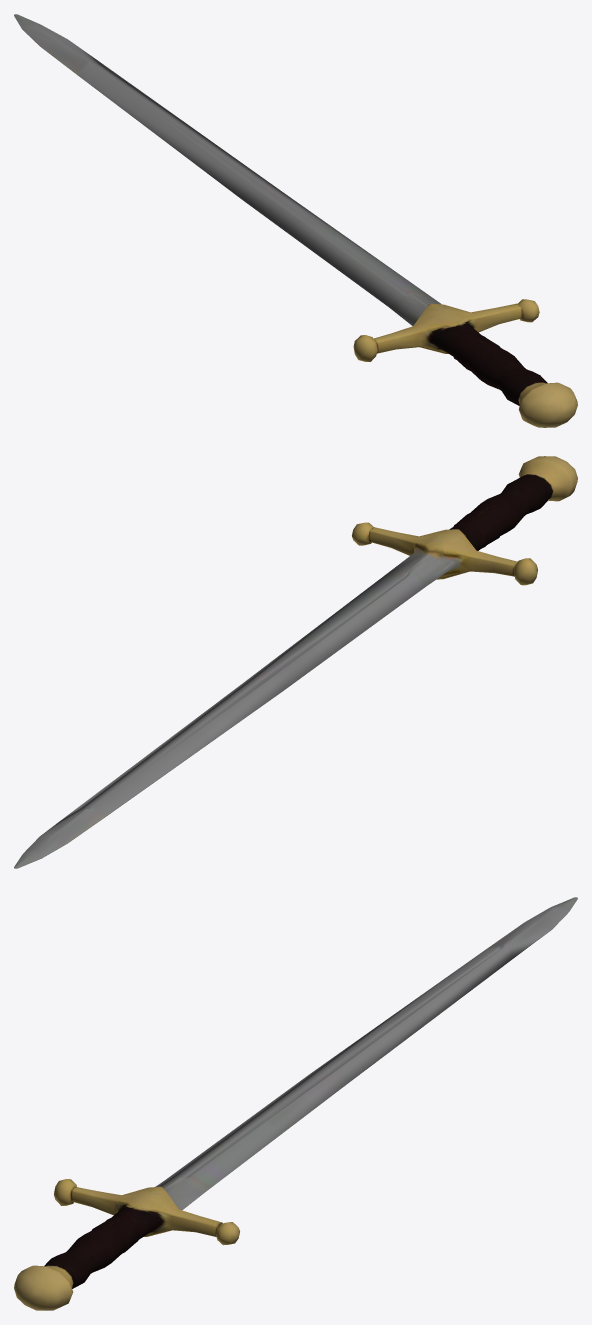
Rendered from arming_sword.fbx.
The picture shows the model from 3 angles, top to bottom: view 1: azimuth 30°, elevation 25°; view 2: azimuth 150°, elevation 25°; view 3: azimuth 330°, elevation 25°; orthographic projection.
Visible parts, largest first — view 1: tripo_node_32eb5179-f987-4f43-882f-60747d9a45d3; view 2: tripo_node_32eb5179-f987-4f43-882f-60747d9a45d3; view 3: tripo_node_32eb5179-f987-4f43-882f-60747d9a45d3.
Boxes of the visible parts, left/top/right/bottom form: tripo_node_32eb5179-f987-4f43-882f-60747d9a45d3: left=14, top=14, right=577, bottom=427; tripo_node_32eb5179-f987-4f43-882f-60747d9a45d3: left=14, top=456, right=577, bottom=868; tripo_node_32eb5179-f987-4f43-882f-60747d9a45d3: left=14, top=897, right=577, bottom=1310.
Size of the model in its own units: 0.2439 by 0.0525 by 1.26.
Materials: 1 (1 with a texture image).
